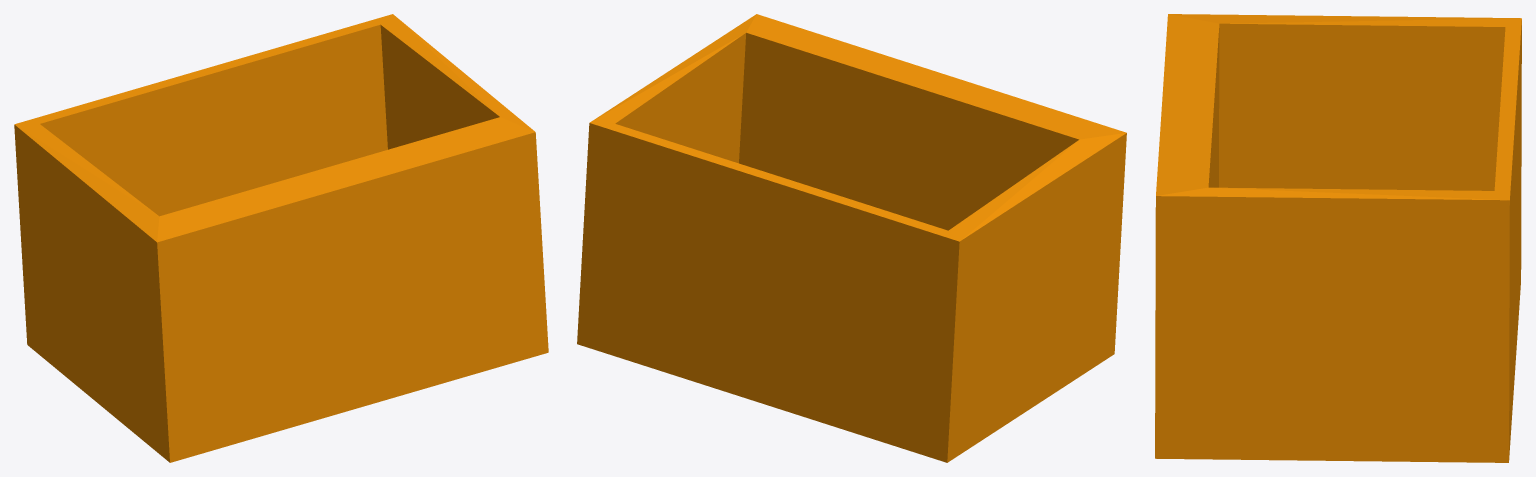
3 views of the same model, side by side, from view 1: azimuth 30°, elevation 25°; view 2: azimuth 150°, elevation 25°; view 3: azimuth 270°, elevation 25° (orthographic). The views are drawn at different scales.
Bounding box in the file's own units: 0.2977 × 0.1777 × 0.2078.
